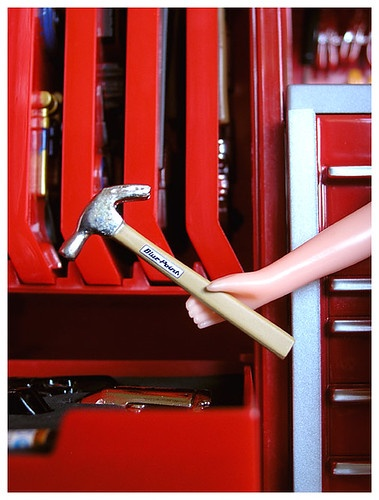hammer: (60, 183, 299, 361)
